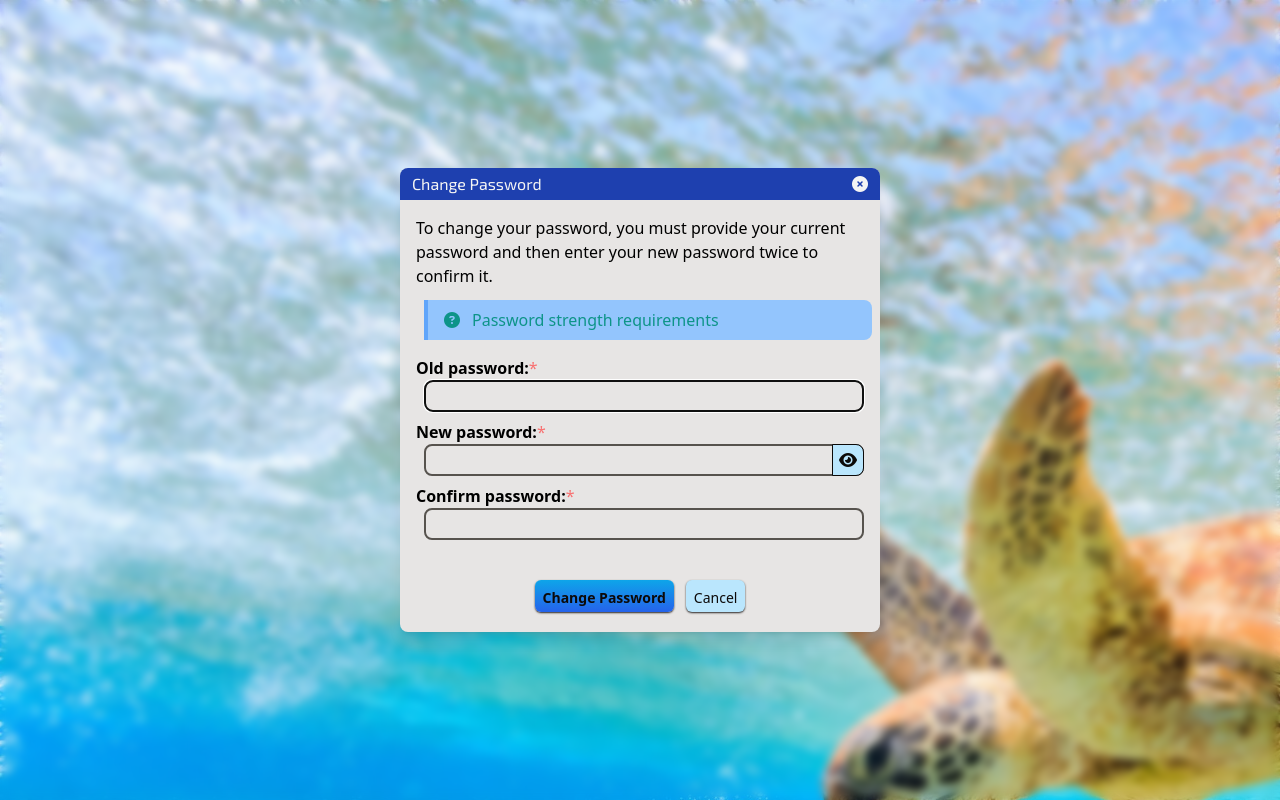
Change Password dialog › will fail validation if required fields are not provided
The width and height of the screenshot is (1280, 800).
Click the button with test id "confirm-change-password".
click(604, 596)  # box [534,580,674,612]
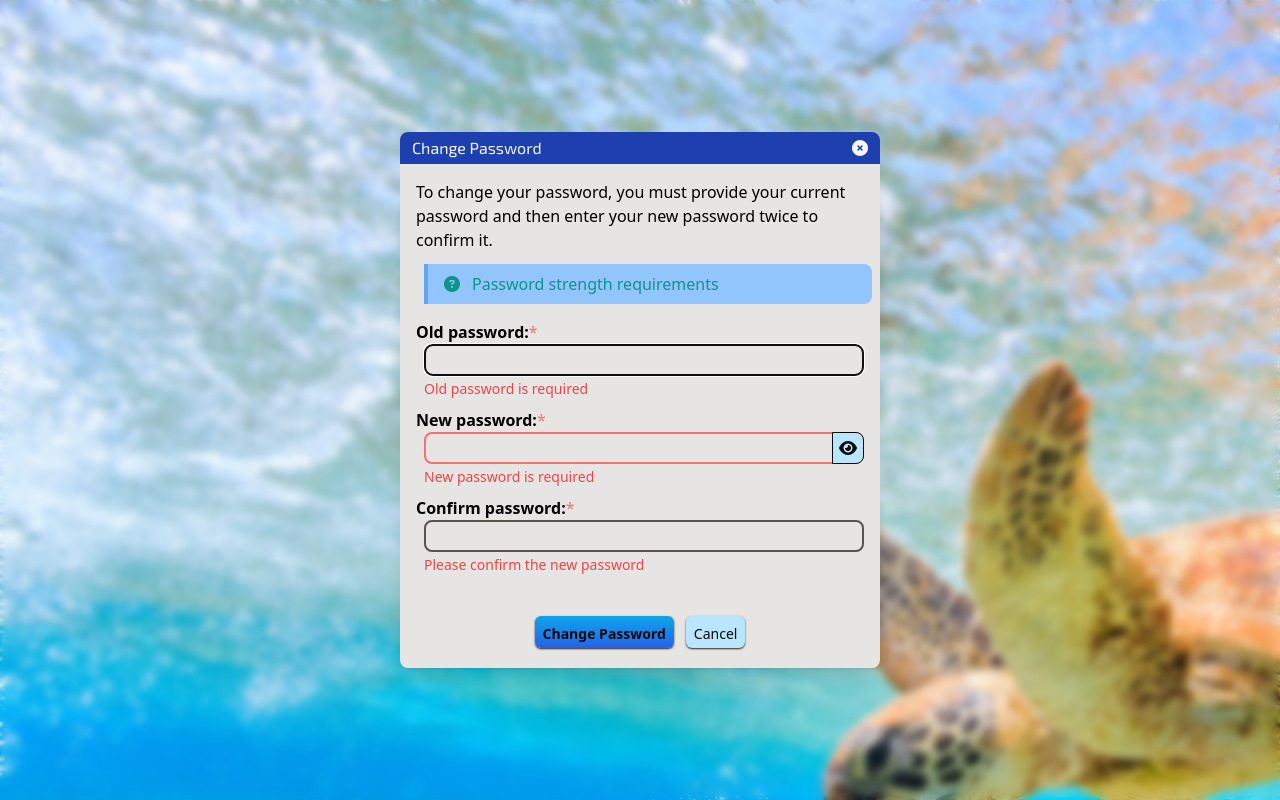
Now the text with test id "oldPassword-error" reads "Old password is required", box [424,379,588,398]
Now the text with test id "newPassword-error" reads "New password is required", box [424,467,594,486]
Now the text with test id "confirmPassword-error" reads "Please confirm the new password", box [424,555,644,574]
